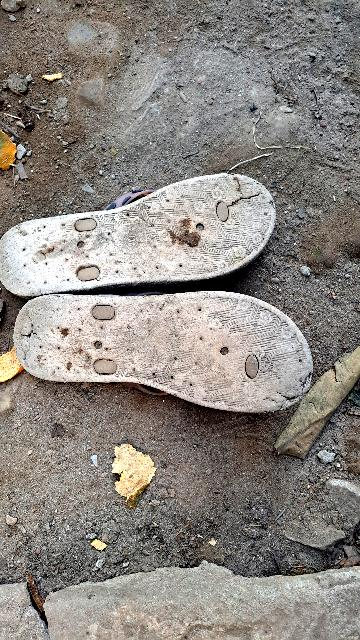sandal: (0, 162, 318, 478)
